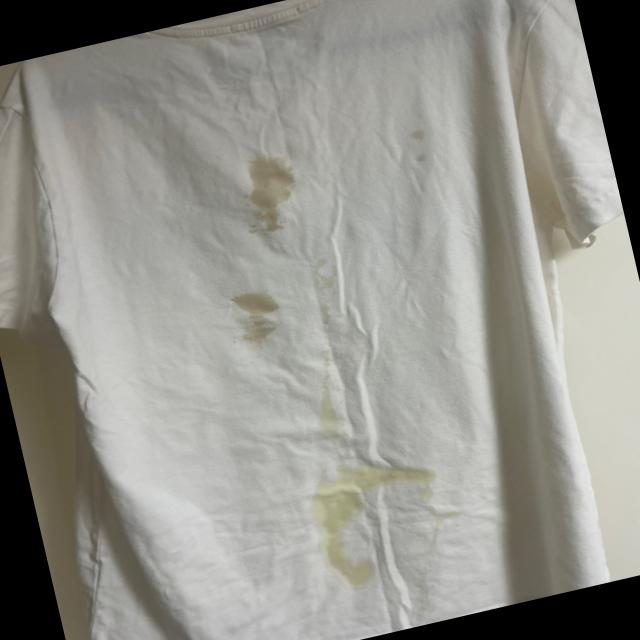stain: (292, 438, 443, 524), (294, 328, 376, 432), (230, 147, 302, 242), (224, 268, 296, 354), (303, 256, 353, 334), (401, 105, 450, 162)
